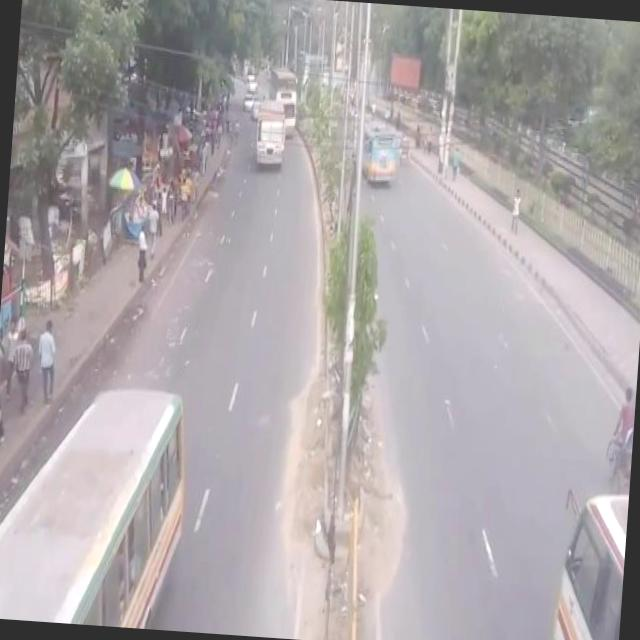bus: (0, 374, 197, 629), (356, 116, 404, 189), (254, 96, 288, 172), (266, 64, 300, 140)
motorcycle: (602, 377, 636, 495), (399, 133, 414, 166)
